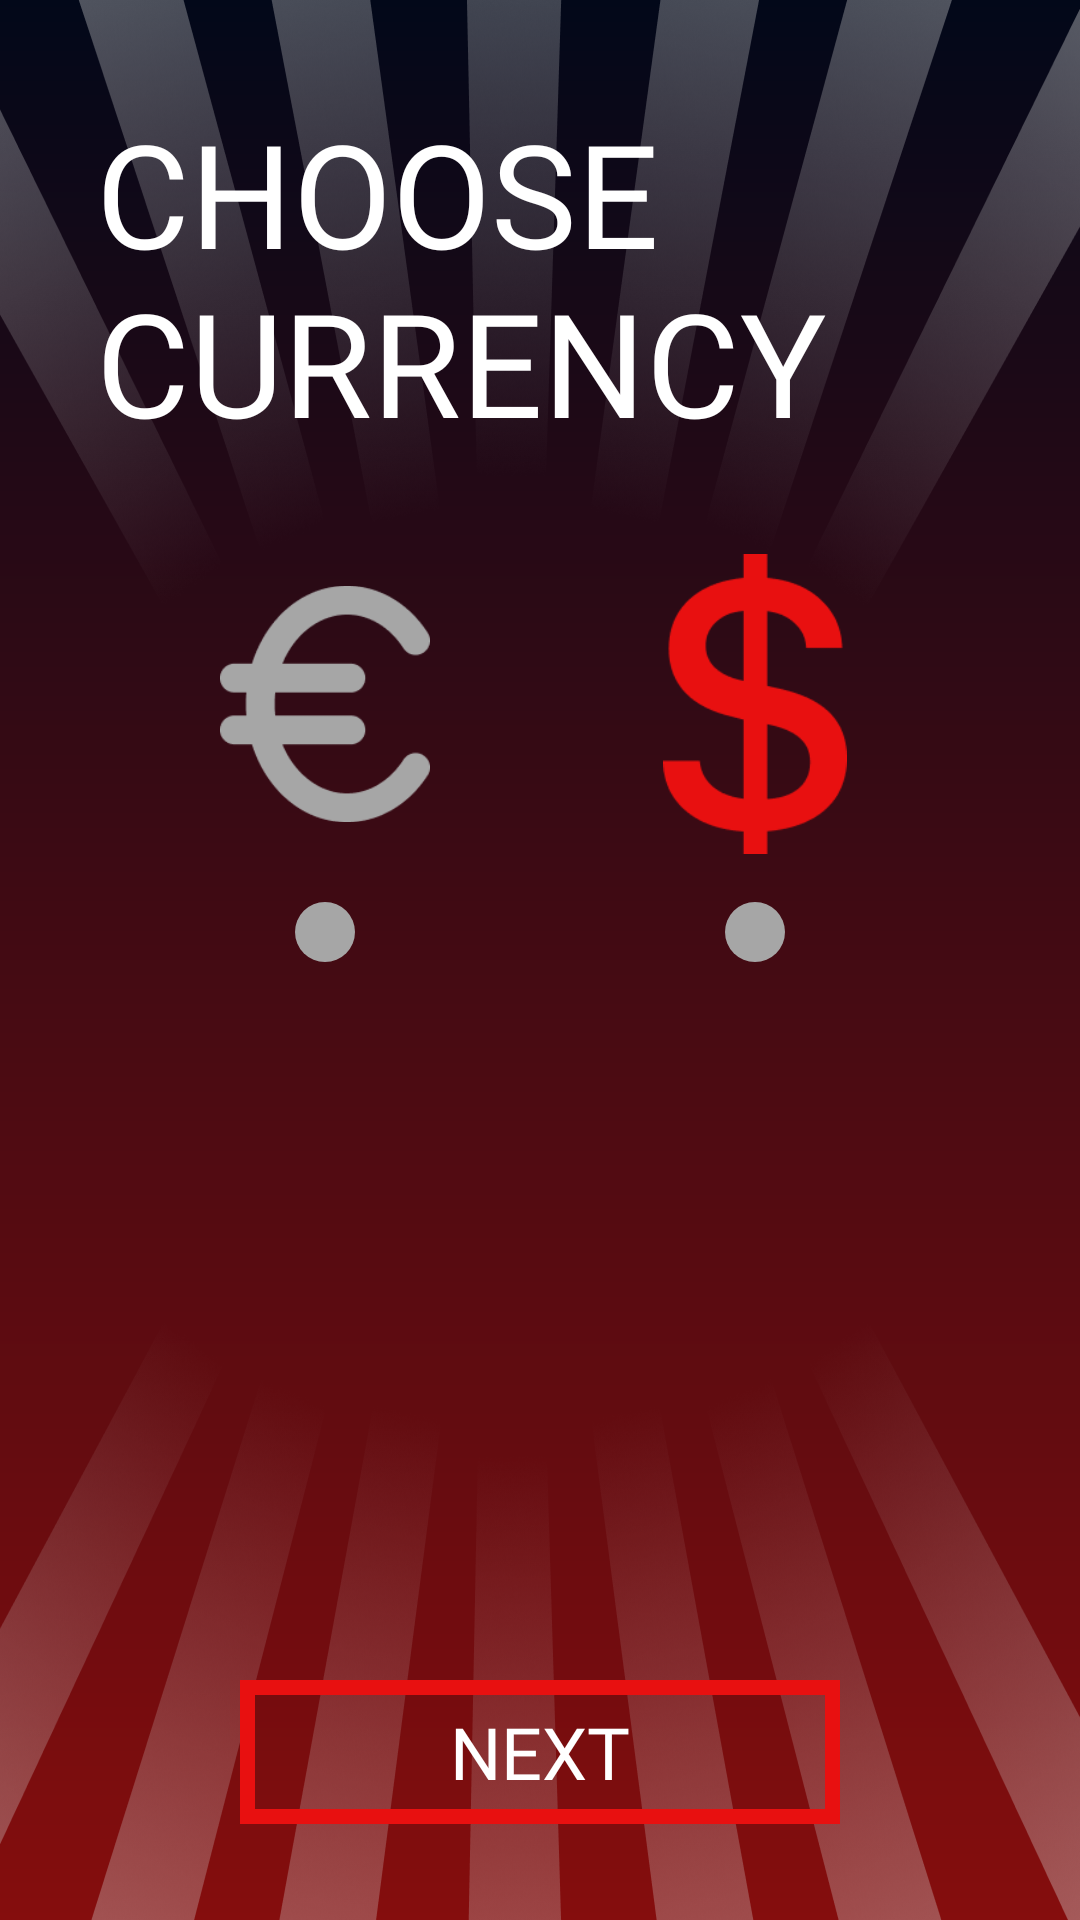

Point at icon controls on the screen. Image size 1080w x 1920h, points as (x,y).
circle: (325,932), (755,932)
dollar: (755,704)
euro: (325,720)
